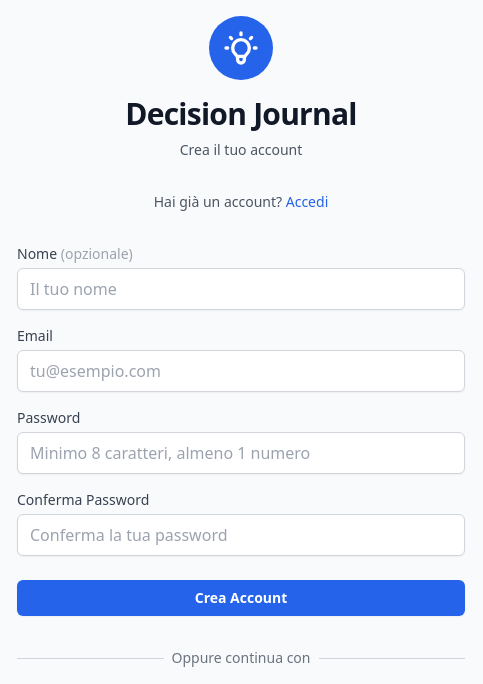
Test case: Signup Page › Loading State › shows loading spinner on submit button during sign up
The width and height of the screenshot is (483, 684).
Expected: the button "Crea Account" is shown, x1=17 y1=580 x2=465 y2=616
Type "test@example.com" into the field labelled "Email".
click(241, 371); type("test@example.com")  # box x1=17 y1=350 x2=465 y2=392
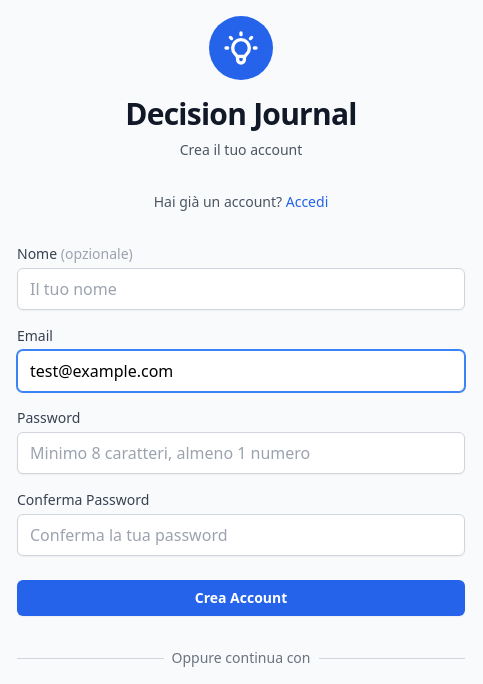
Type "password123" into the password field labelled "Password".
click(241, 453); type("password123")  # box x1=17 y1=432 x2=465 y2=474
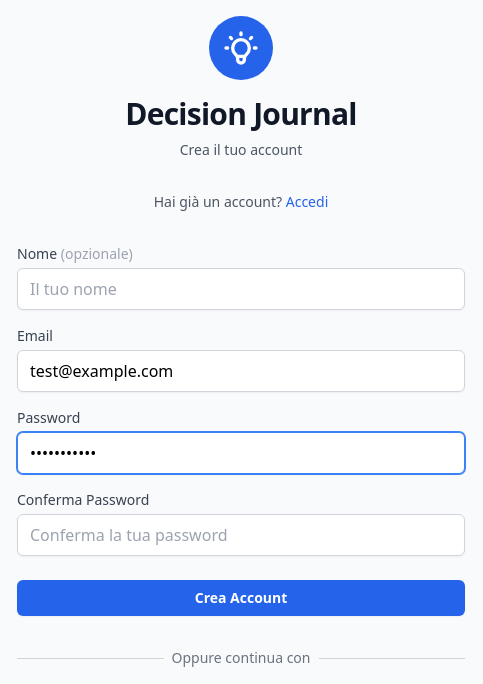
Type "password123" into the password field labelled "Conferma Password".
click(241, 535); type("password123")  # box x1=17 y1=514 x2=465 y2=556
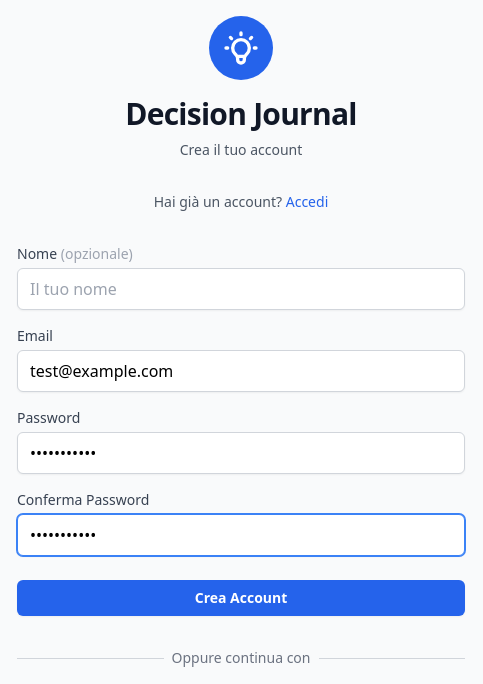
Click the button "Crea Account".
click(241, 598)  # box x1=17 y1=580 x2=465 y2=616
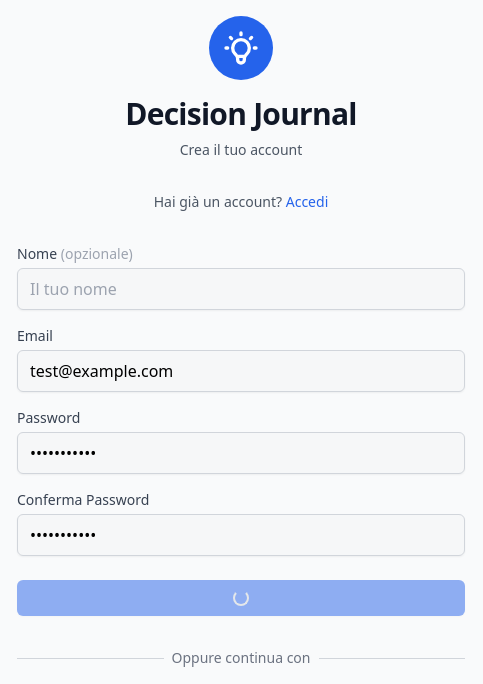
Now the message with class "animate-spin" is shown, box x1=233 y1=590 x2=249 y2=606
